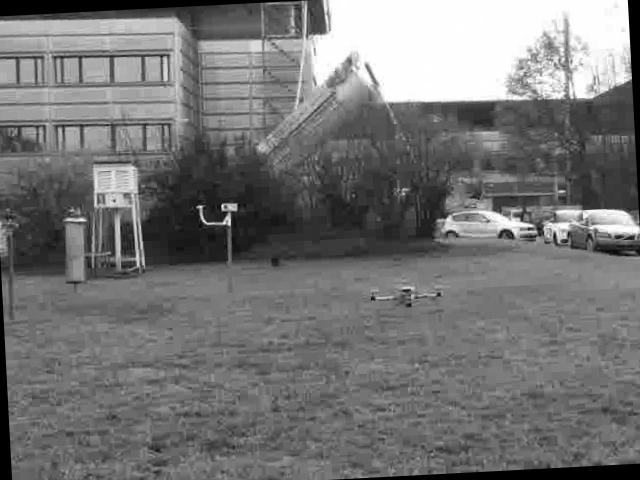drone: (368, 280, 444, 313)
